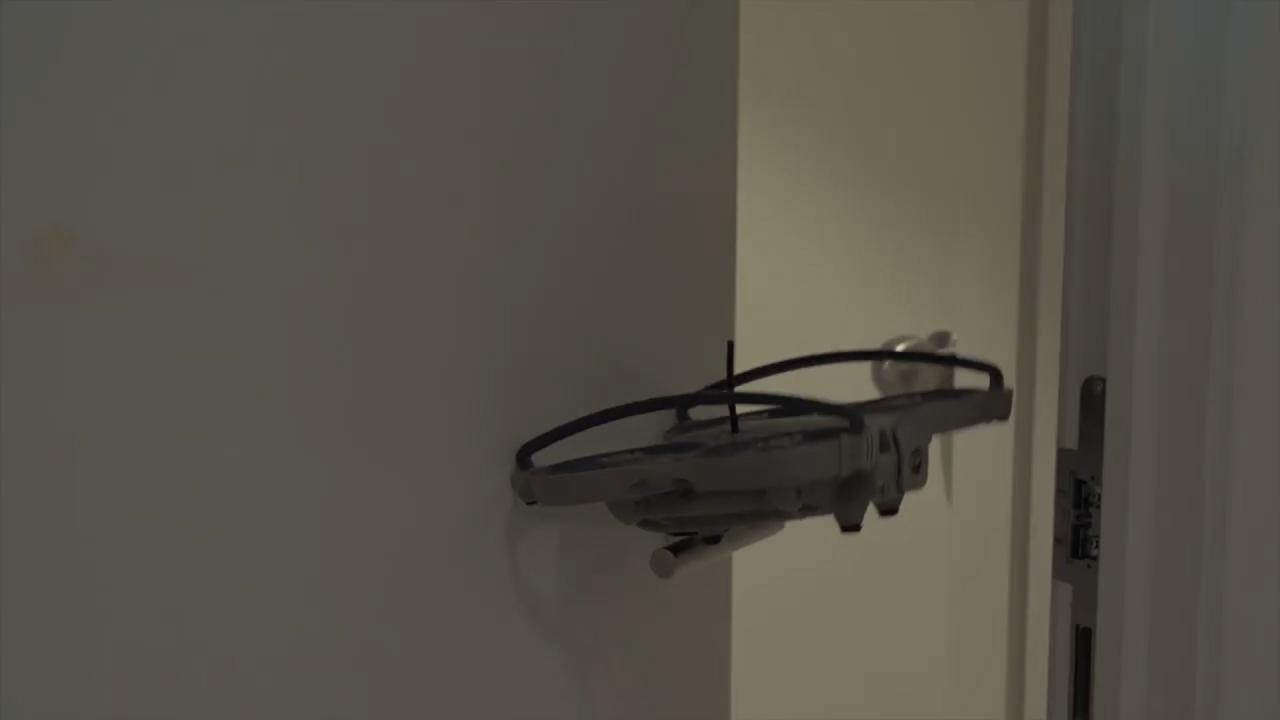Drone: (495, 312, 1032, 598)
